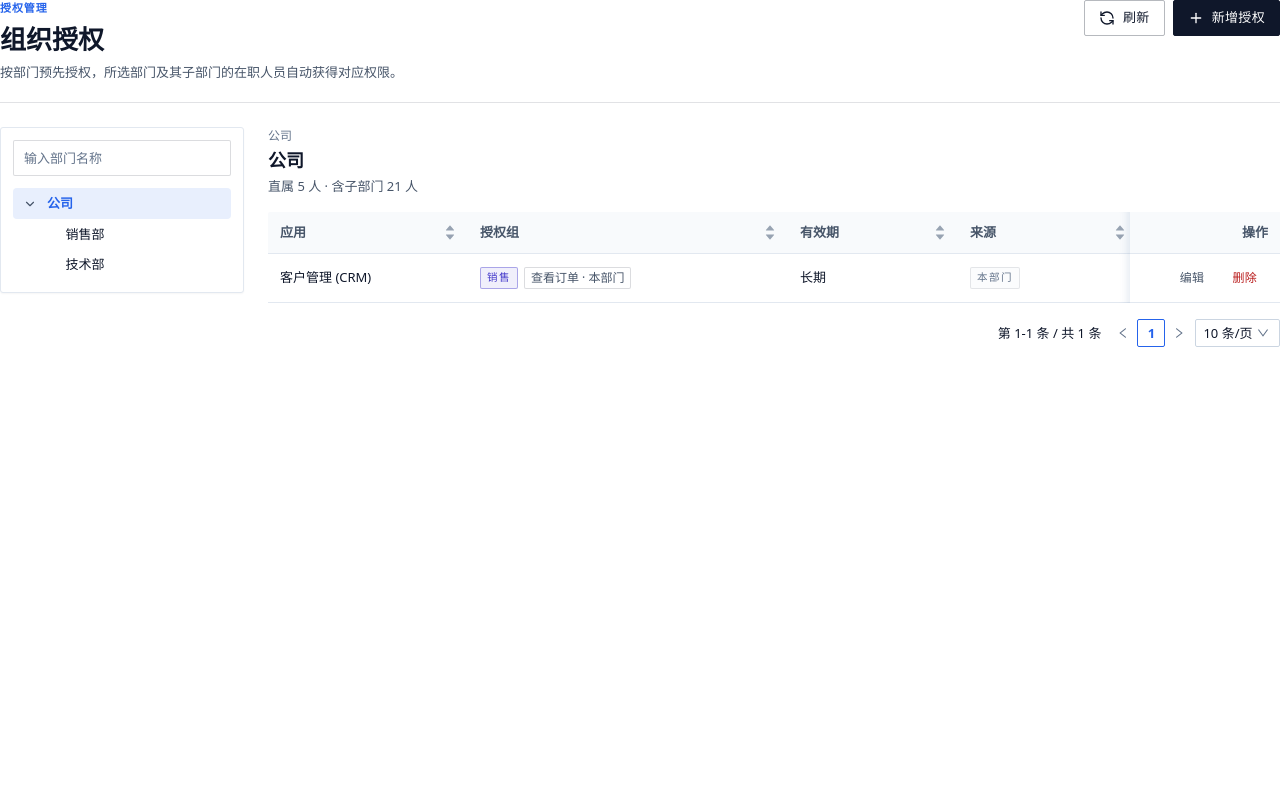
DepartmentGrantsPage › 新增授权选中已有授权的应用时载入现有策略, 保存即更新而不是再建一条
The width and height of the screenshot is (1280, 800).
Expected: the text "客户管理 (CRM)" is shown, x1=268 y1=254 x2=468 y2=303
Click the button "新增授权" at (1226, 18), box x1=1173 y1=0 x2=1279 y2=36
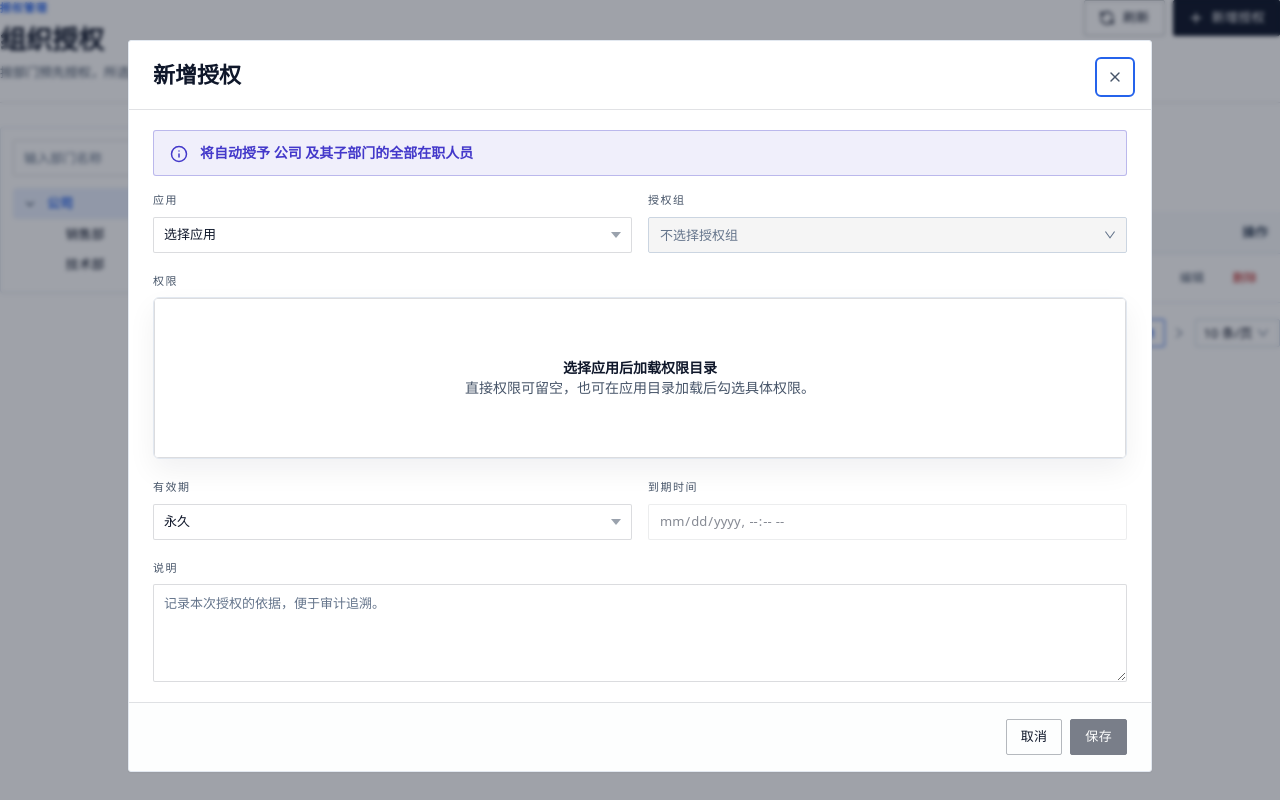
Select "客户管理 (CRM)" in the dropdown labelled "应用" at (392, 234), box x1=153 y1=216 x2=632 y2=252
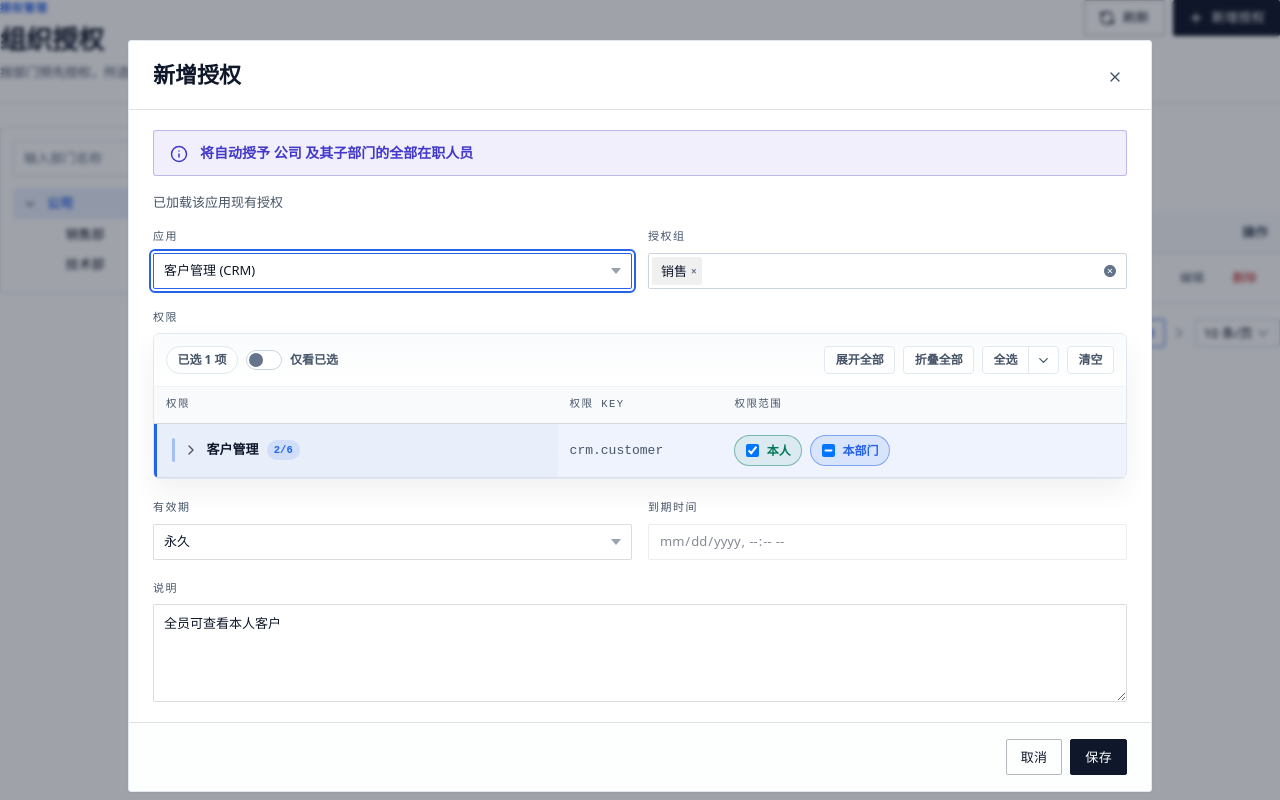
Result: the text "已加载该应用现有授权" is shown at x1=153 y1=193 x2=283 y2=211
Result: the text box labelled "说明" holds "全员可查看本人客户"
Replace the text in the text box labelled "说明" with "公司统一收敛为只读" at (640, 653), box x1=153 y1=604 x2=1127 y2=702
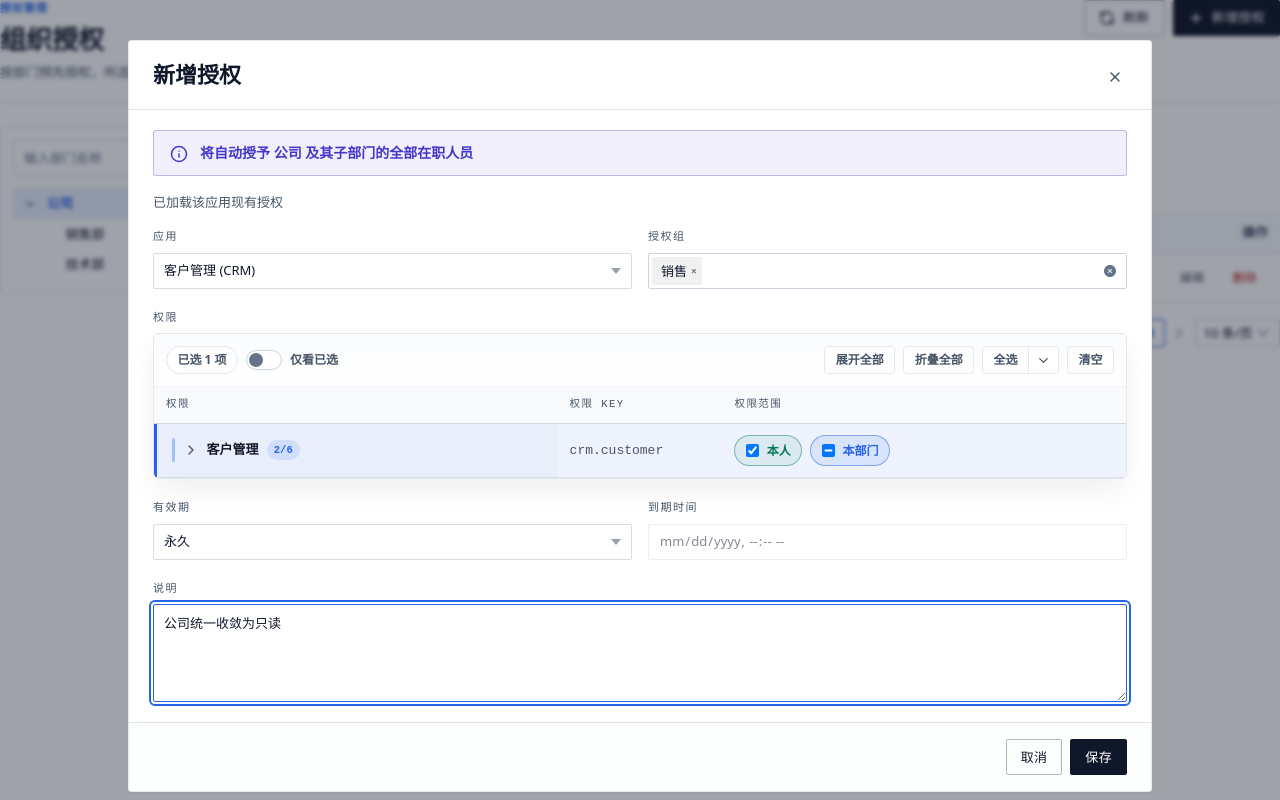
Click the button "保存" at (1099, 757), box x1=1070 y1=739 x2=1127 y2=775
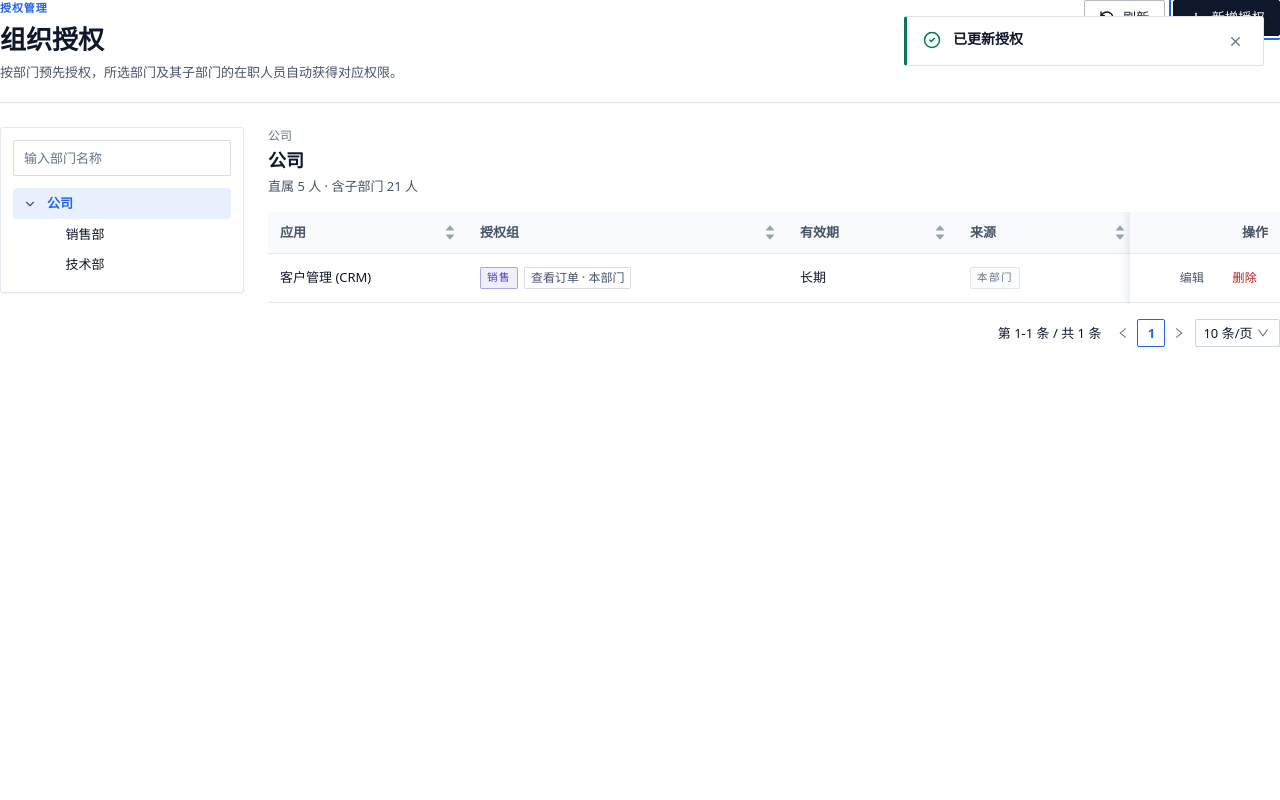
Result: the text "已更新授权" is shown at x1=953 y1=29 x2=1023 y2=48
